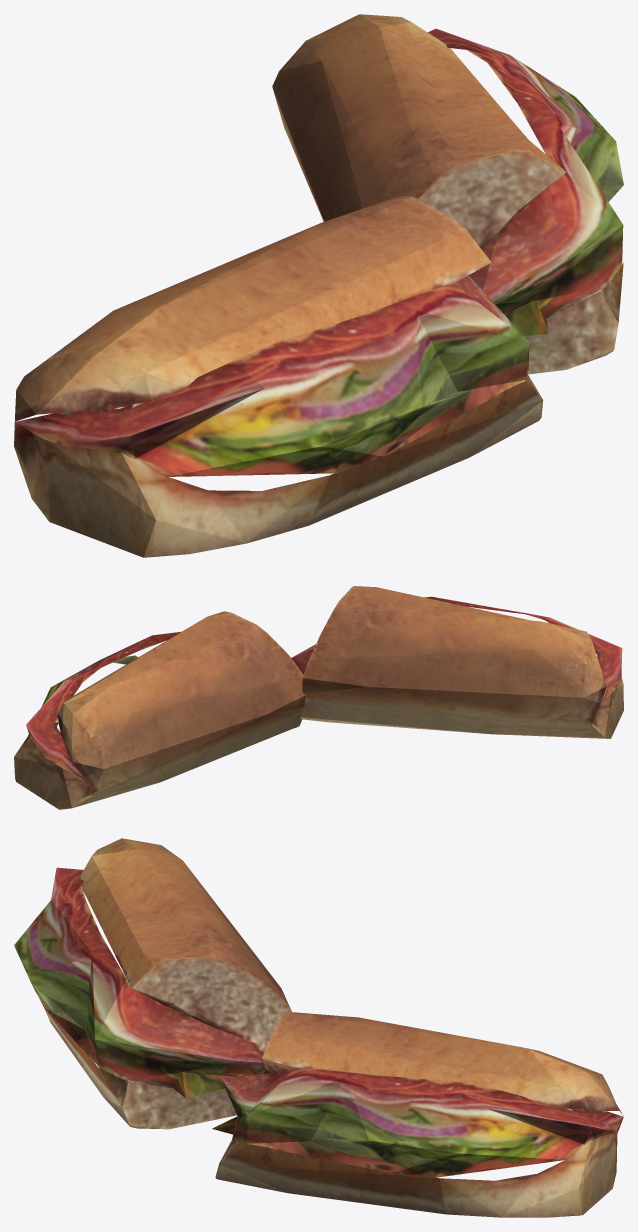
File: sandwich.gltf
3 views of the same model, one above another, from view 1: azimuth 30°, elevation 25°; view 2: azimuth 150°, elevation 25°; view 3: azimuth 270°, elevation 25° (orthographic). The views are drawn at different scales.
Parts seen in each view (by area): view 1: Sub Sandwich, Sub Sandwich1; view 2: Sub Sandwich, Sub Sandwich1; view 3: Sub Sandwich1, Sub Sandwich.
Part boxes in pixels (bbox=[...]): Sub Sandwich: bbox=[14, 196, 543, 557]; Sub Sandwich1: bbox=[272, 14, 623, 374]; Sub Sandwich: bbox=[291, 586, 623, 738]; Sub Sandwich1: bbox=[14, 611, 305, 809]; Sub Sandwich1: bbox=[212, 1011, 623, 1217]; Sub Sandwich: bbox=[14, 838, 291, 1129].
Bounding box in the file's own units: 0.0977 × 0.0277 × 0.0935.
Materials: 1 (1 with a texture image).
